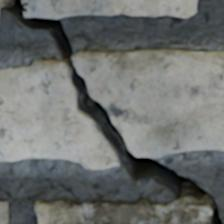brick: (35, 200, 211, 223), (23, 0, 196, 17), (0, 201, 7, 223)
broken_brick: (73, 48, 223, 158), (0, 59, 119, 170)
crack: (1, 0, 223, 223)
